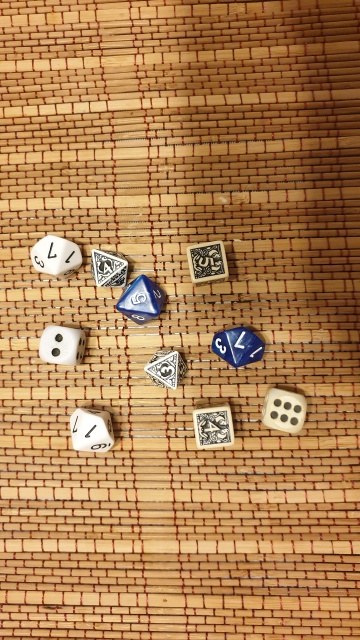d10-1: (64, 401, 122, 461)
d10-5: (118, 273, 170, 332)
d10-7: (204, 318, 272, 376), (27, 229, 81, 280)
d6-2: (32, 321, 91, 369)
d6-6: (257, 383, 312, 436)
d6p-4: (190, 400, 241, 454)
d6p-5: (183, 237, 236, 287)
d8p-3: (141, 340, 191, 393)
d8p-4: (88, 246, 133, 290)
